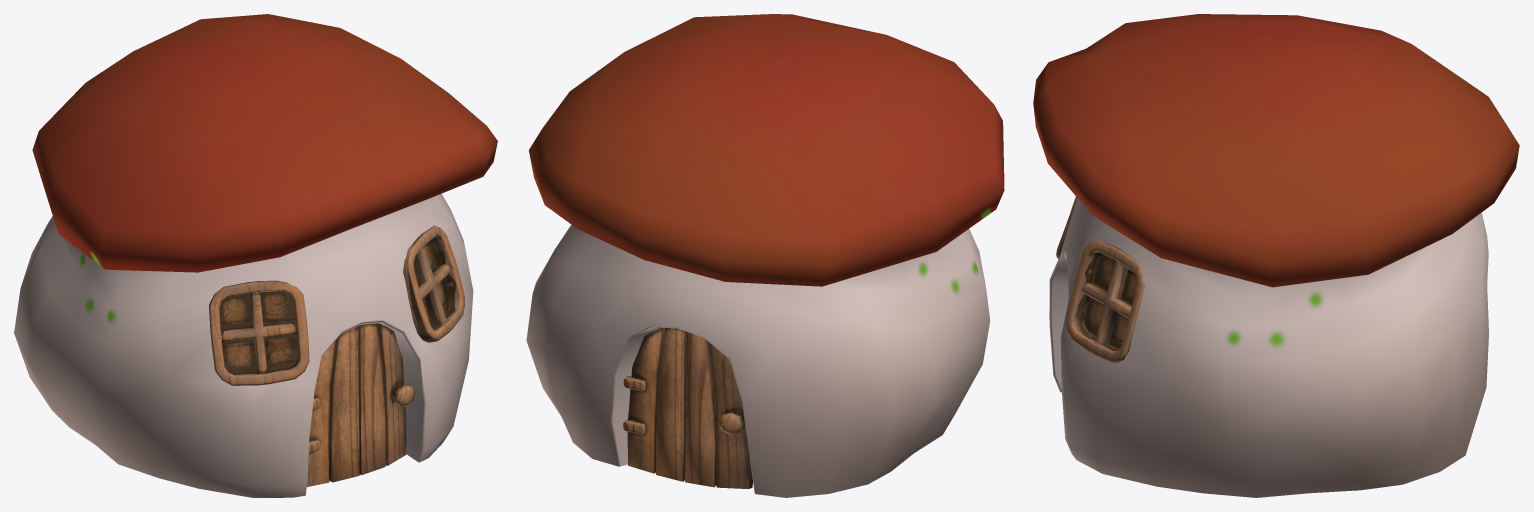
The picture shows the model from 3 angles, left to right: view 1: azimuth 30°, elevation 25°; view 2: azimuth 150°, elevation 25°; view 3: azimuth 270°, elevation 25°; orthographic projection. The views are drawn at different scales.
Visible parts, largest first — view 1: tejado, paredes_Mesh, ventanas, PUERTA_delantera_Mesh; view 2: tejado, paredes_Mesh, PUERTA_trasera_Mesh; view 3: tejado, paredes_Mesh, ventanas.
Boxes of the visible parts, bbox=[...] form: tejado: bbox=[32, 14, 497, 272]; paredes_Mesh: bbox=[14, 193, 473, 497]; ventanas: bbox=[209, 225, 464, 385]; PUERTA_delantera_Mesh: bbox=[306, 323, 415, 486]; tejado: bbox=[528, 14, 1004, 286]; paredes_Mesh: bbox=[526, 224, 990, 497]; PUERTA_trasera_Mesh: bbox=[623, 327, 752, 488]; tejado: bbox=[1033, 14, 1519, 287]; paredes_Mesh: bbox=[1049, 198, 1488, 497]; ventanas: bbox=[1056, 196, 1144, 362].
Bounding box in the file's own units: 0.0336 × 0.0281 × 0.0329.
1 material, 1 textured.
